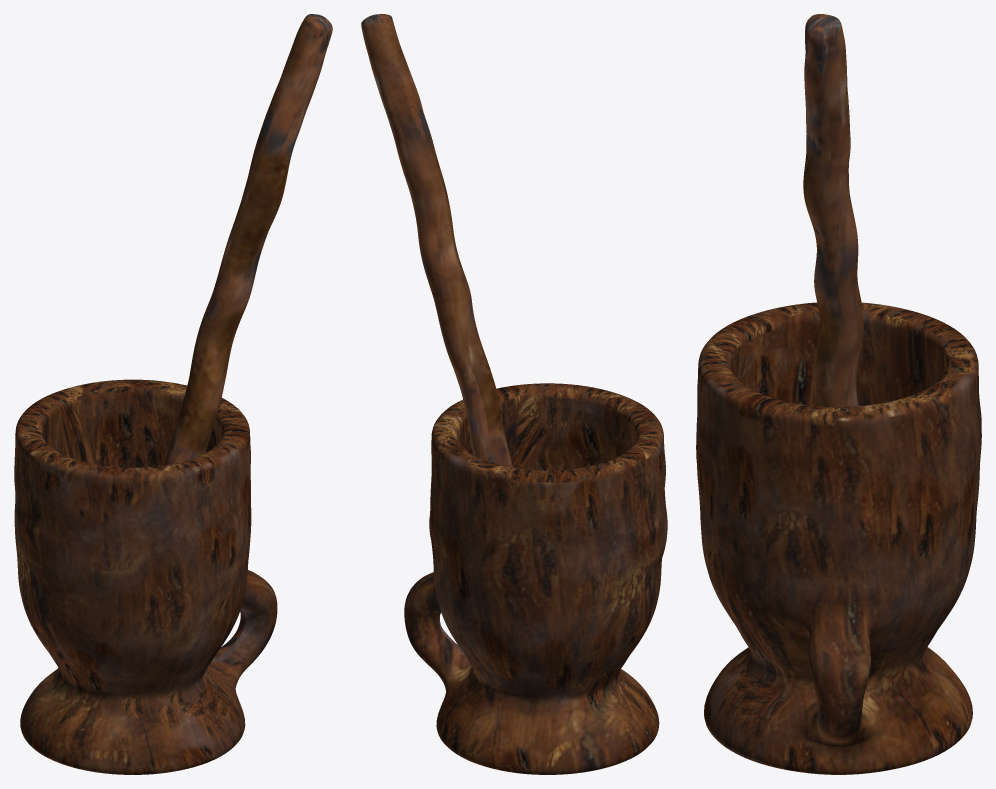
File: isekuru_final.fbx
3 renders of one model, left to right at view 1: azimuth 30°, elevation 25°; view 2: azimuth 150°, elevation 25°; view 3: azimuth 270°, elevation 25°, orthographic. The views are drawn at different scales.
Parts seen in each view (by area): view 1: isekuru, umuhini; view 2: isekuru, umuhini; view 3: isekuru, umuhini.
Boxes of the visible parts, x1=… form: isekuru: x1=14, y1=379, x2=277, y2=774; umuhini: x1=164, y1=14, x2=332, y2=465; isekuru: x1=404, y1=383, x2=667, y2=774; umuhini: x1=361, y1=14, x2=512, y2=467; isekuru: x1=696, y1=302, x2=981, y2=774; umuhini: x1=803, y1=14, x2=863, y2=406.
Size of the model in its own units: 2534 by 5508 by 1768.
